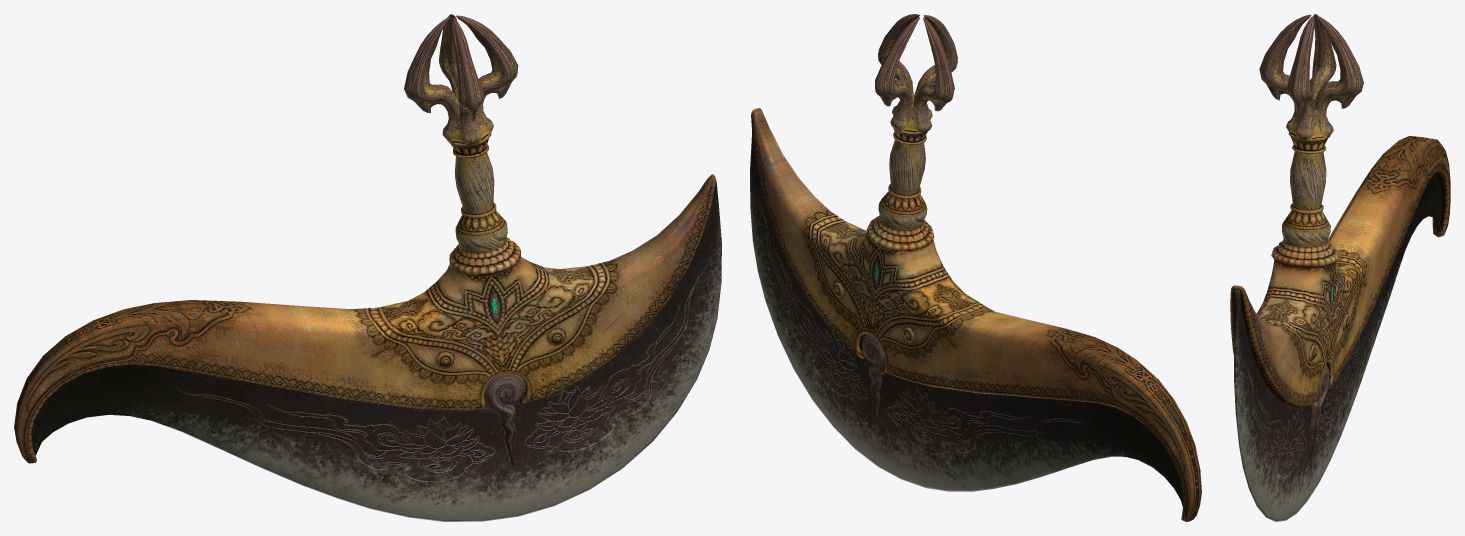
File: sou015.obj
3 views of the same model, side by side, from view 1: azimuth 30°, elevation 25°; view 2: azimuth 150°, elevation 25°; view 3: azimuth 270°, elevation 25° (orthographic). The views are drawn at different scales.
Parts seen in each view (by area): view 1: sou015_000_LOD_1; view 2: sou015_000_LOD_1; view 3: sou015_000_LOD_1.
Boxes of the visible parts, <box> form: sou015_000_LOD_1: <box>14,14,721,521</box>; sou015_000_LOD_1: <box>750,14,1201,521</box>; sou015_000_LOD_1: <box>1230,14,1450,521</box>.
Bounding box in the file's own units: 80.72 × 65.87 × 27.71.
